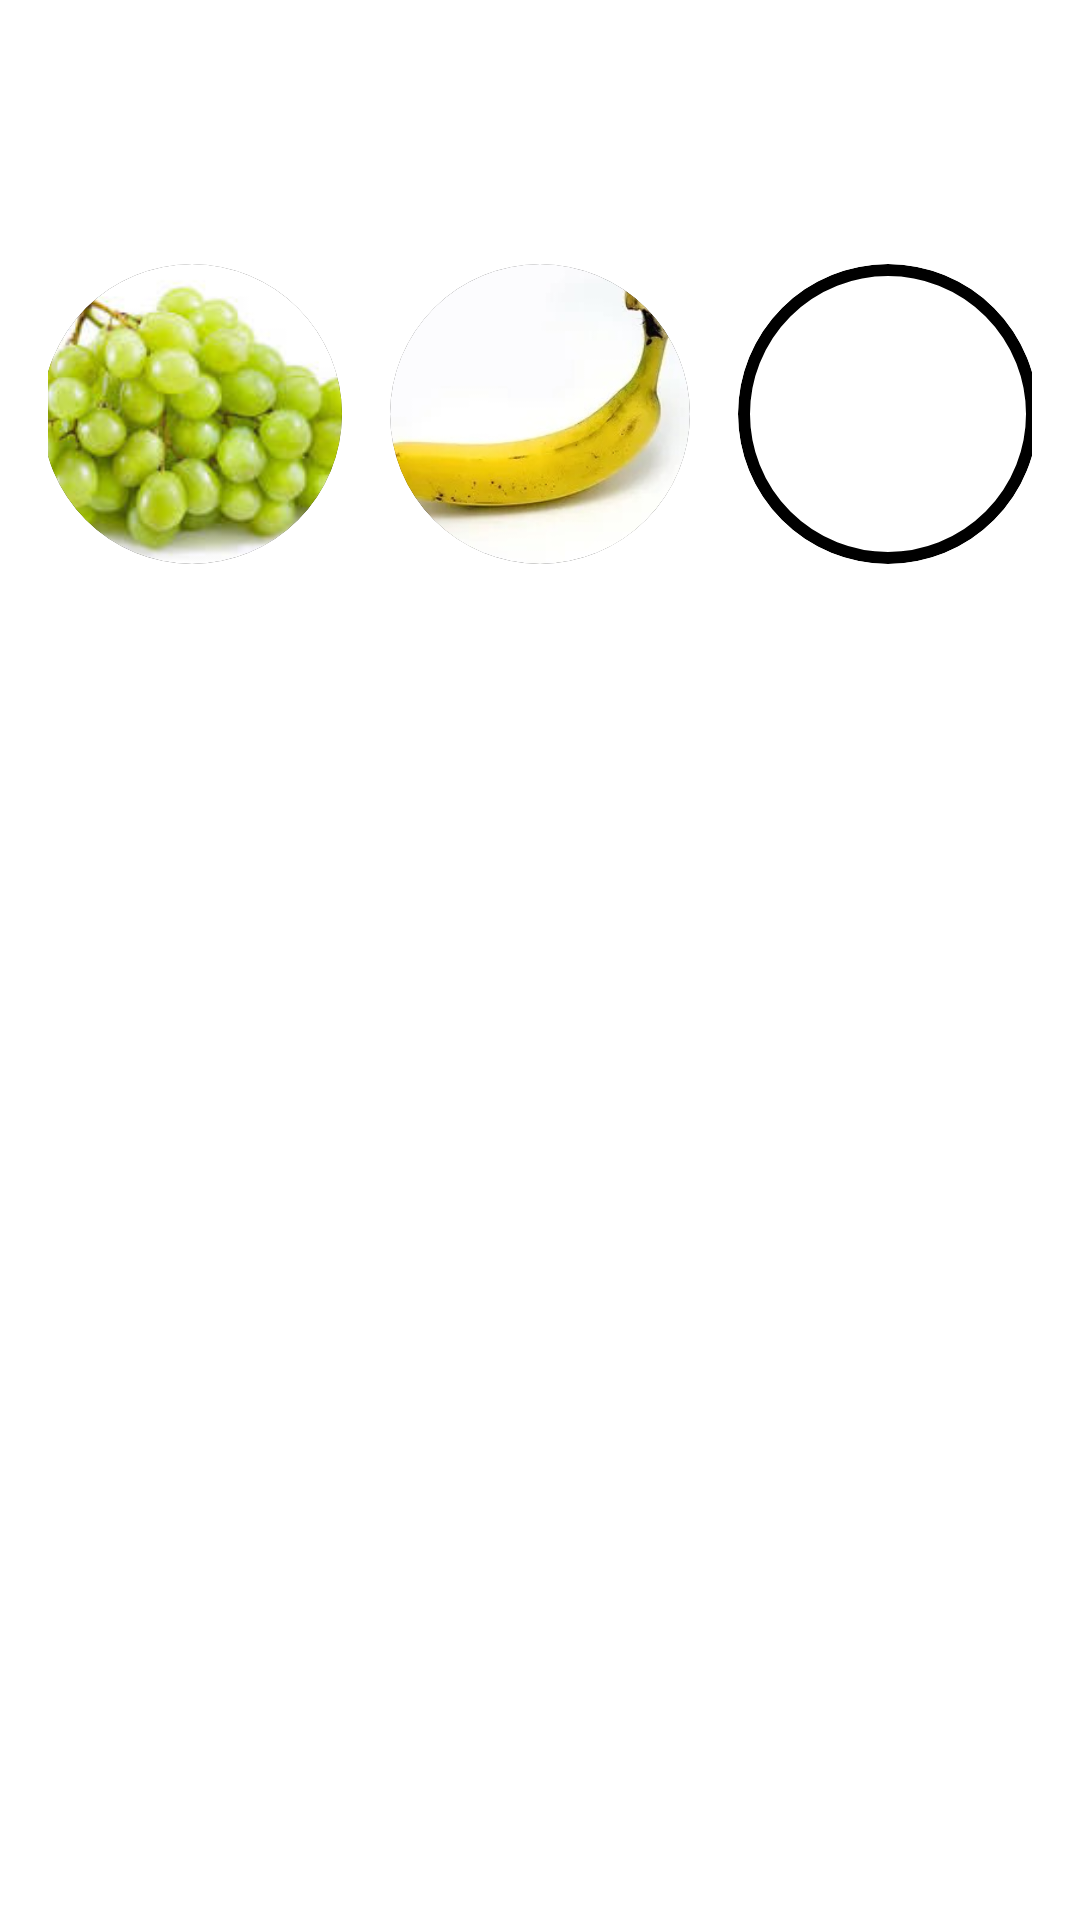

Icons on this 1080×1920 Android screen, each with the point to tap as [x,y]:
bananana: [540,414]
graps: [195,414]
